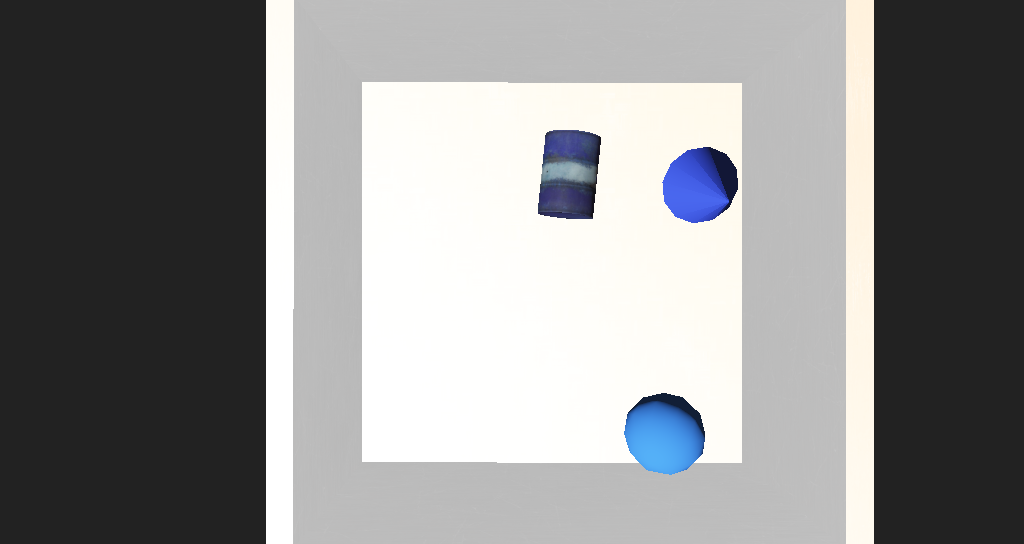cone: (492, 188, 546, 241)
cylinder: (593, 193, 674, 255)
sphere: (559, 336, 627, 379)
